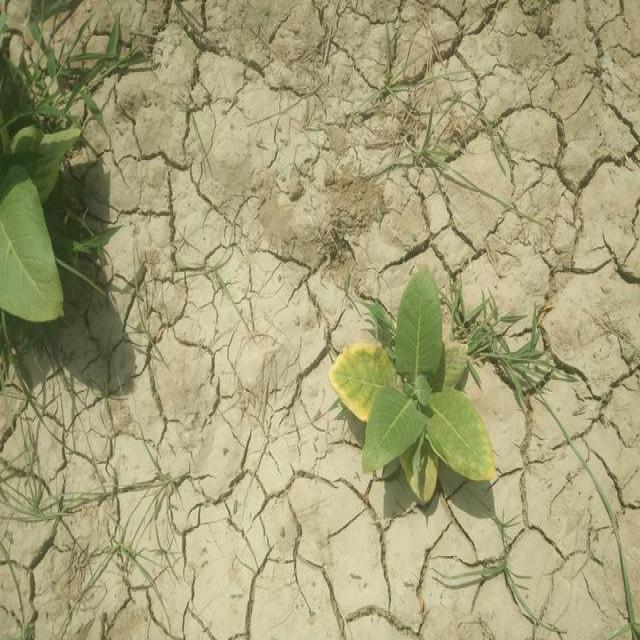crop: (332, 274, 510, 475)
